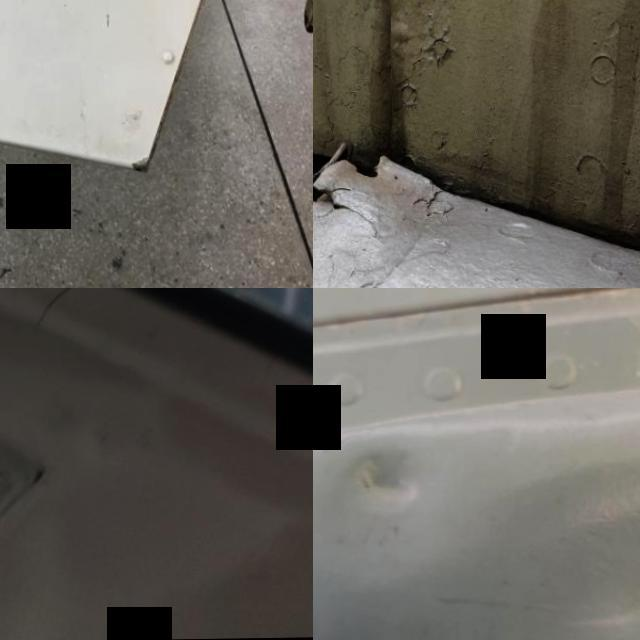Crack: (0, 288, 127, 360), (313, 167, 389, 241), (120, 134, 152, 178), (99, 2, 111, 34)
Dent: (318, 428, 449, 532), (519, 528, 640, 640)
